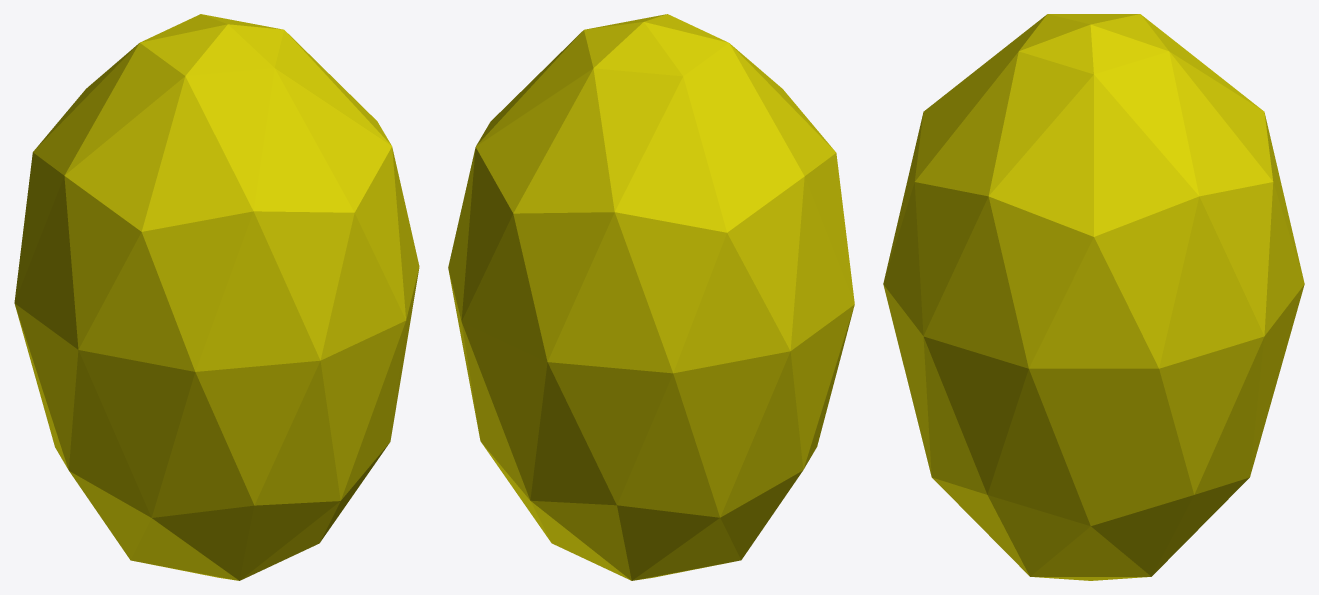
Rendered from limon.dae.
The picture shows the model from 3 angles, left to right: view 1: azimuth 30°, elevation 25°; view 2: azimuth 150°, elevation 25°; view 3: azimuth 270°, elevation 25°; orthographic projection.
Parts seen in each view (by area): view 1: Icosphere; view 2: Icosphere; view 3: Icosphere.
Part boxes in pixels (x1,y1,x2,y2): Icosphere: (14, 14, 419, 580); Icosphere: (448, 14, 854, 580); Icosphere: (883, 14, 1304, 580).
Bounding box in the file's own units: 2.04 × 2.14 × 3.15.
